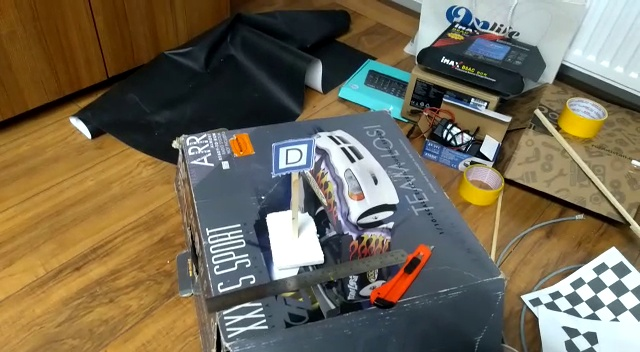durak: (268, 134, 316, 174)
